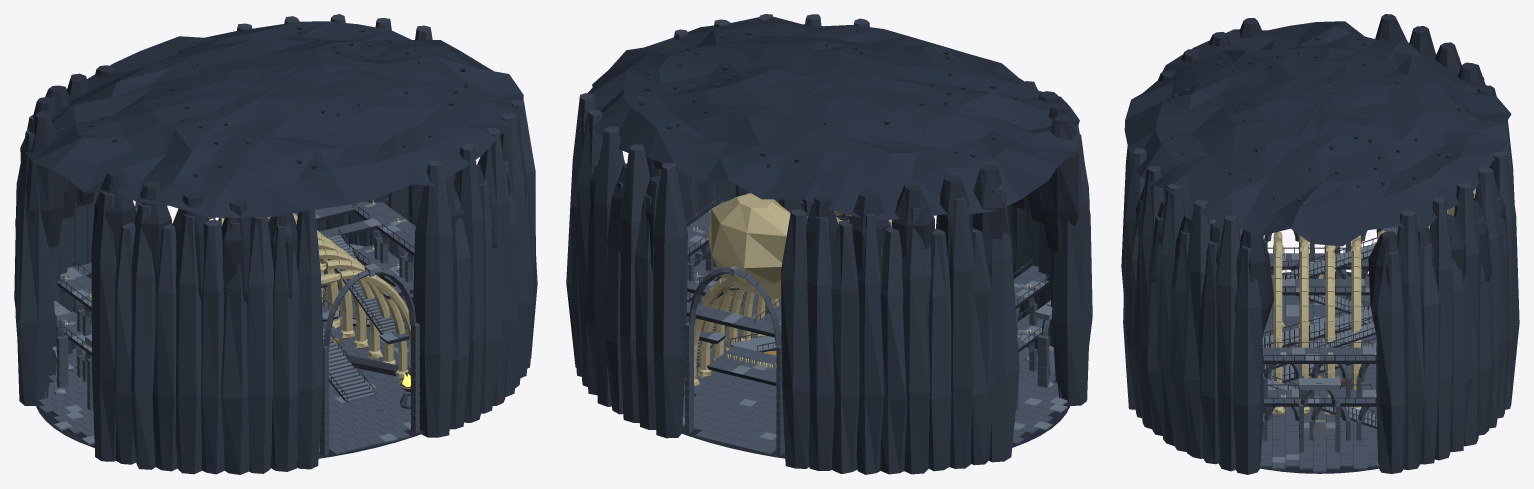
The model's file is cellar-room-07.glb.
3 views of the same model, side by side, from view 1: azimuth 30°, elevation 25°; view 2: azimuth 150°, elevation 25°; view 3: azimuth 270°, elevation 25° (orthographic). The views are drawn at different scales.
Parts seen in each view (by area): view 1: Cellar 7 rock, Cellar 7 ceiling, Cellar 7 stone_dark, Cellar 7 stone, Cellar 7 stone_floor, Cellar 7 bone, Cellar 7 stone_light, Cellar 7 iron, Cellar 7 mortar, Cellar 7 stone_floor_light; view 2: Cellar 7 rock, Cellar 7 ceiling, Cellar 7 stone_dark, Cellar 7 bone, Cellar 7 stone, Cellar 7 stone_floor, Cellar 7 stone_light, Cellar 7 mortar, Cellar 7 iron, Cellar 7 stone_floor_light; view 3: Cellar 7 rock, Cellar 7 ceiling, Cellar 7 stone_dark, Cellar 7 stone_floor, Cellar 7 stone, Cellar 7 bone, Cellar 7 stone_light, Cellar 7 iron, Cellar 7 mortar, Cellar 7 stone_floor_light.
Part boxes in pixels (x1,y1,x2,y2): Cellar 7 rock: (14,14,537,474); Cellar 7 ceiling: (25,21,523,217); Cellar 7 stone_dark: (20,65,511,401); Cellar 7 stone: (44,201,419,455); Cellar 7 stone_floor: (38,287,410,454); Cellar 7 bone: (208,213,410,379); Cellar 7 stone_light: (50,204,414,401); Cellar 7 iron: (56,196,416,401); Cellar 7 mortar: (35,360,424,458); Cellar 7 stone_floor_light: (54,338,410,451); Cellar 7 rock: (566,14,1092,474); Cellar 7 ceiling: (583,16,1079,220); Cellar 7 stone_dark: (590,81,1078,396); Cellar 7 bone: (684,193,892,387); Cellar 7 stone: (685,201,1061,455); Cellar 7 stone_floor: (682,293,1058,454); Cellar 7 stone_light: (682,210,1055,423); Cellar 7 mortar: (679,346,1071,458); Cellar 7 iron: (686,195,1049,364); Cellar 7 stone_floor_light: (702,296,1067,440); Cellar 7 rock: (1121,39,1519,474); Cellar 7 ceiling: (1124,21,1511,246); Cellar 7 stone_dark: (1135,14,1506,428); Cellar 7 stone_floor: (1259,273,1379,472); Cellar 7 stone: (1210,219,1397,452); Cellar 7 bone: (1272,188,1476,414); Cellar 7 stone_light: (1239,227,1398,453); Cellar 7 iron: (1210,218,1377,424); Cellar 7 mortar: (1259,271,1379,473); Cellar 7 stone_floor_light: (1272,274,1350,462).
Size of the model in its own units: 95.07 by 59.52 by 76.25.
